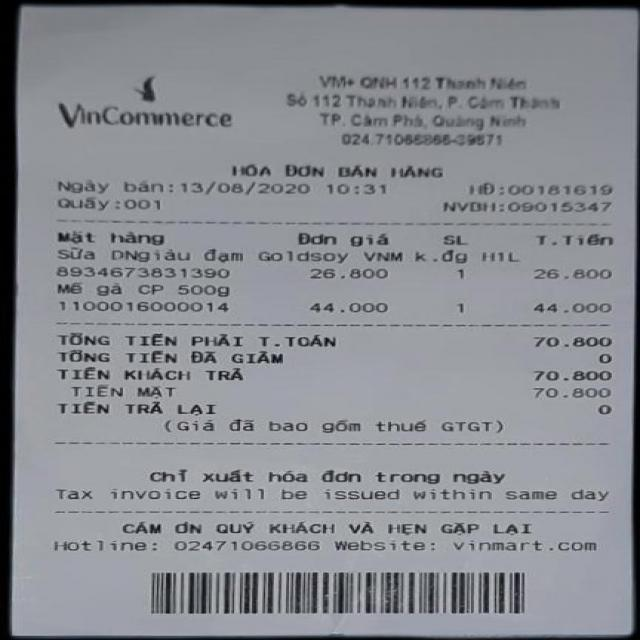Date: (175, 176, 311, 197)
Store_Name: (35, 63, 269, 149)
Total_Amount: (42, 326, 624, 349)
